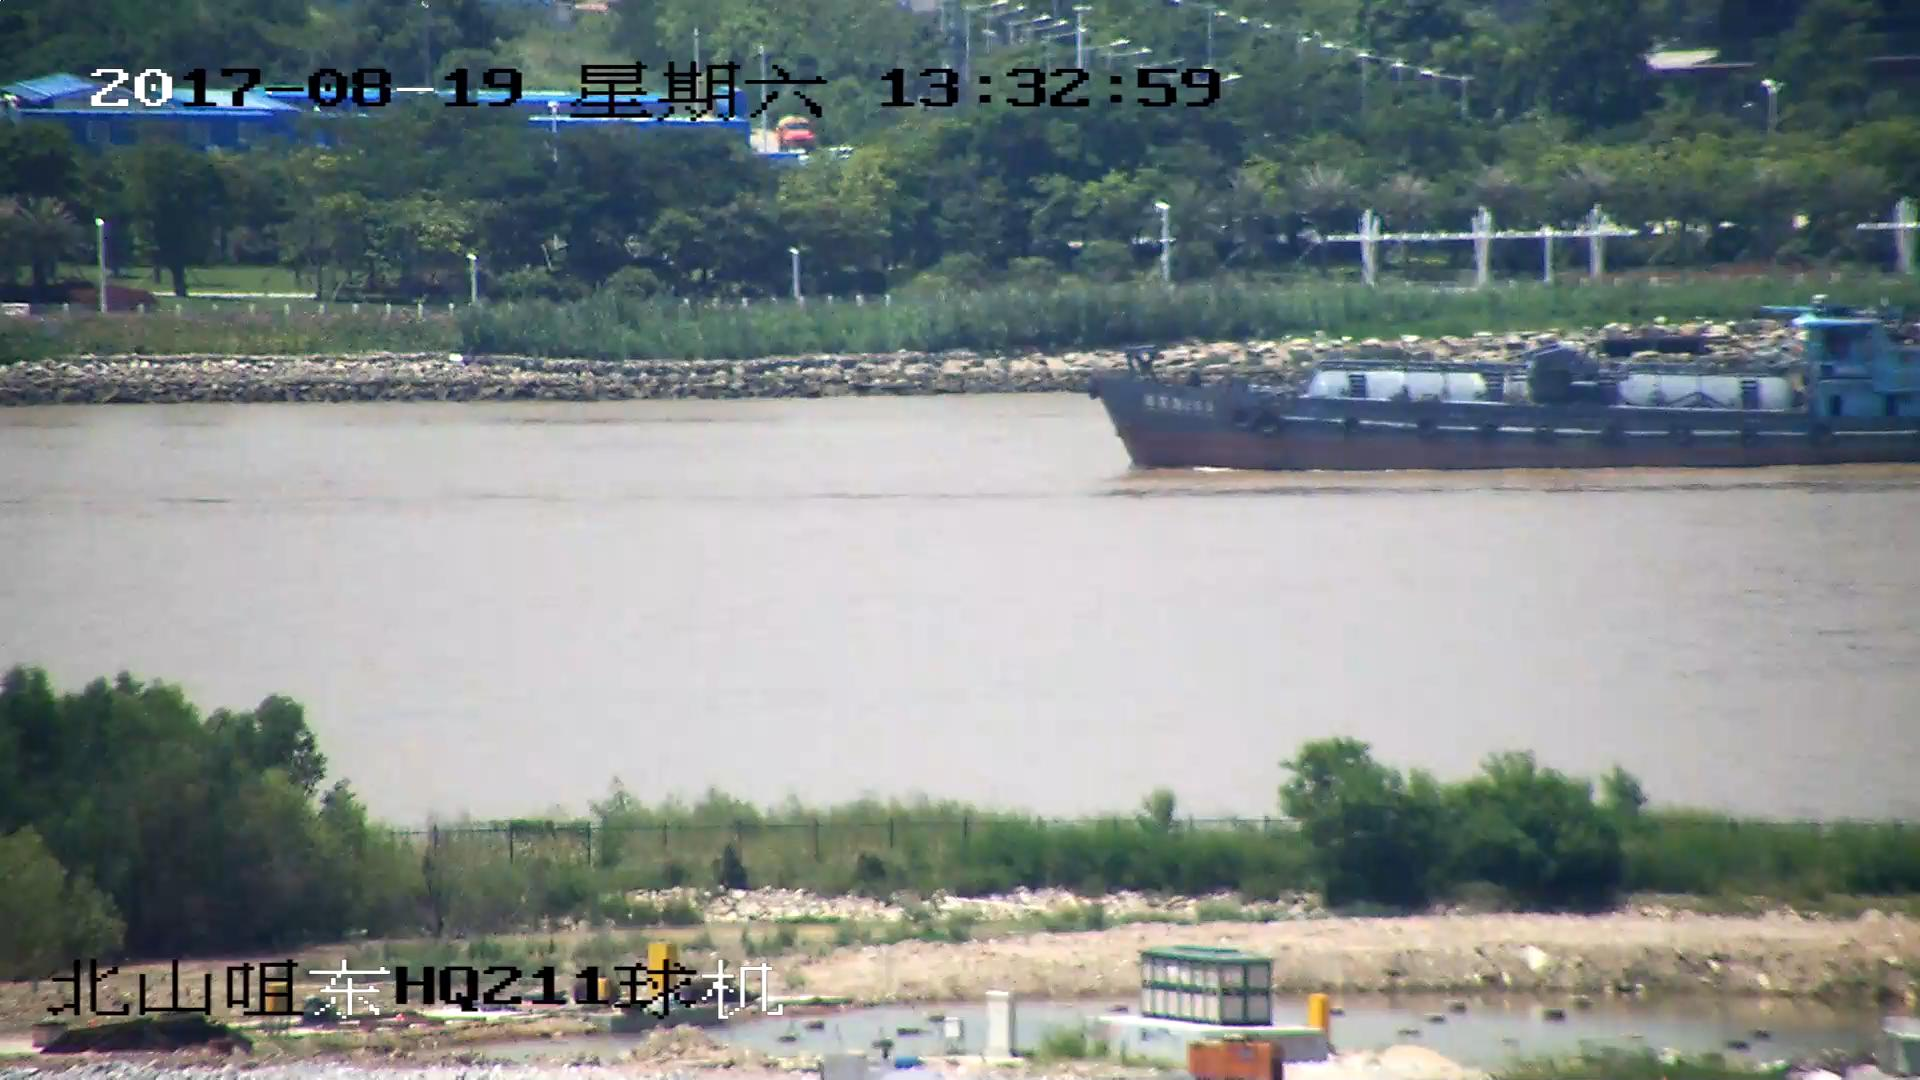bulk cargo carrier: (1090, 318, 1920, 472)
